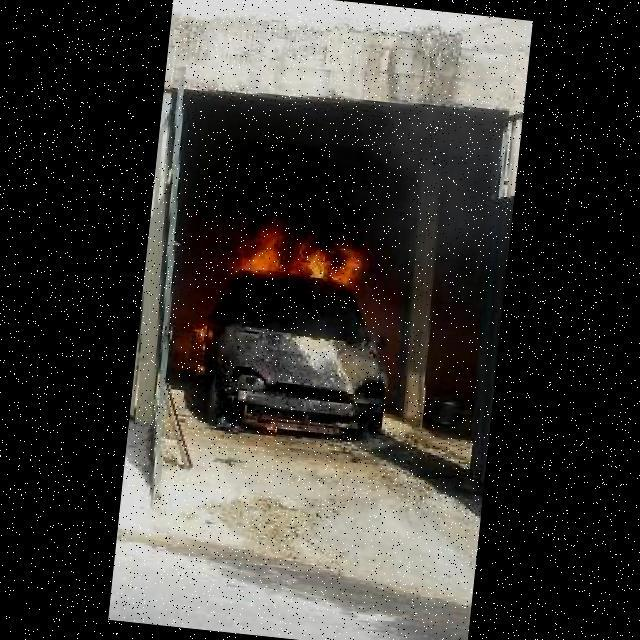Fire: (229, 209, 371, 289), (185, 318, 214, 349)
